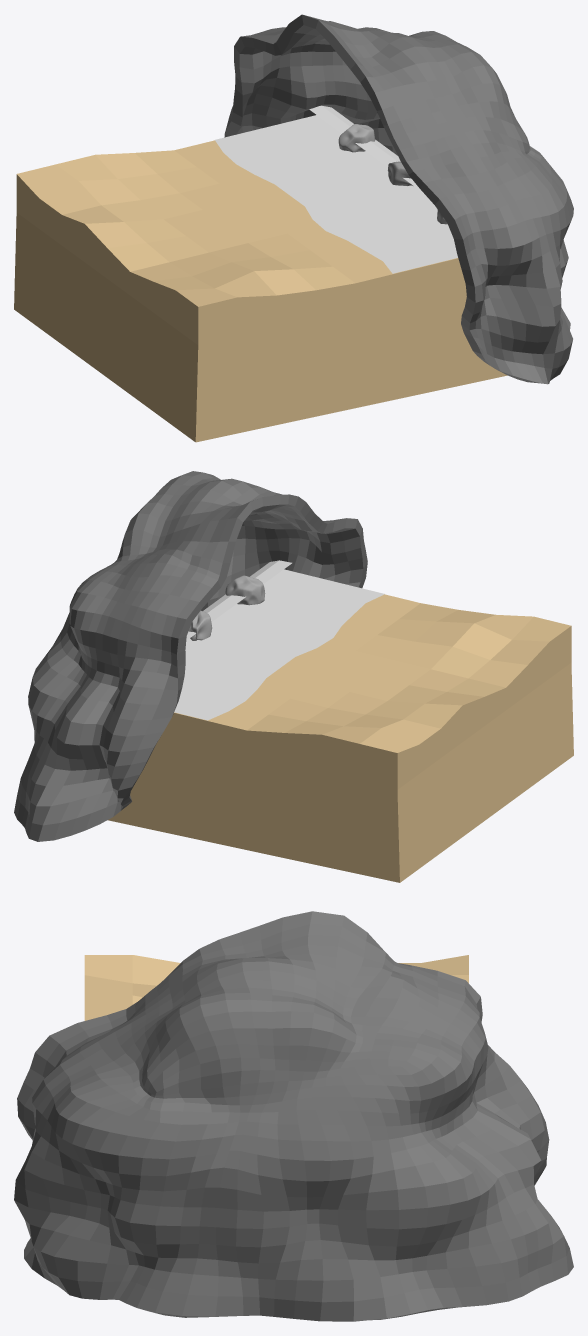
3 renders of one model, top to bottom at view 1: azimuth 30°, elevation 25°; view 2: azimuth 150°, elevation 25°; view 3: azimuth 270°, elevation 25°, orthographic. The views are drawn at different scales.
Visible parts, largest first — view 1: Cube, Cube.001, Plane, Plane.001, Icosphere.004; view 2: Cube, Cube.001, Plane, Plane.001, Icosphere.002; view 3: Cube.001, Cube.
Part boxes in pixels (<box>): Cube: <box>14,140,507,442</box>; Cube.001: <box>224,14,573,384</box>; Plane: <box>215,115,457,273</box>; Plane.001: <box>309,105,423,193</box>; Icosphere.004: <box>338,124,375,152</box>; Cube: <box>108,594,573,882</box>; Cube.001: <box>14,471,367,841</box>; Plane: <box>174,569,384,720</box>; Plane.001: <box>186,560,291,640</box>; Icosphere.002: <box>225,575,265,605</box>; Cube.001: <box>14,911,573,1321</box>; Cube: <box>84,955,468,1020</box>.
Bounding box in the file's own units: 672 × 457 × 728.
